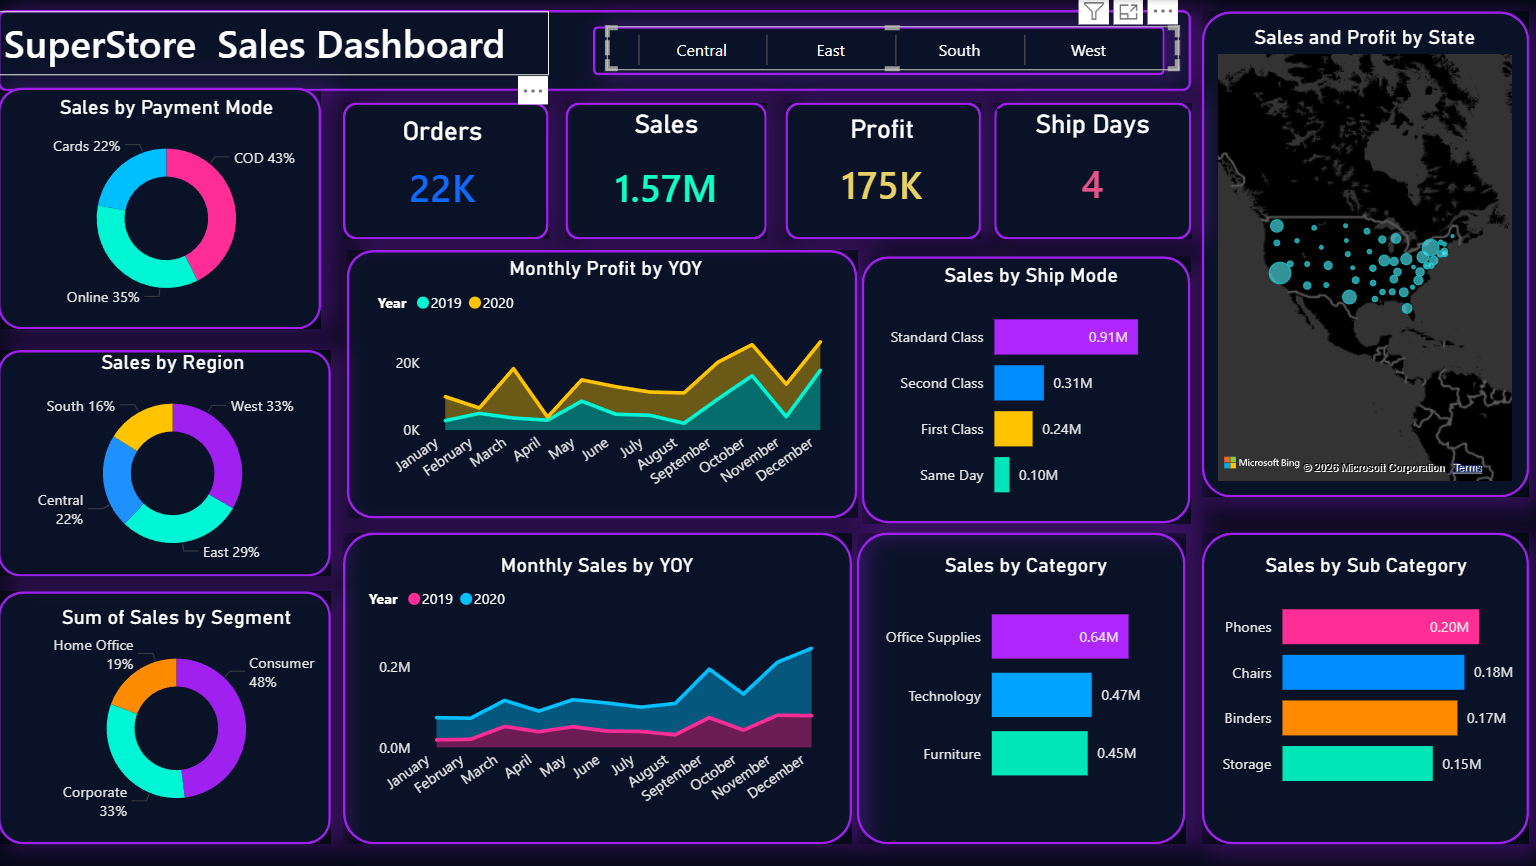

The page's visual inventory and layout, read from the dashboard file:
{"tool":"powerbi","page":{"name":"Page 1","canvas":[1280,720],"ordinal":0},"visuals":[{"type":"shape","box":[0,8.1,991.9,67.4],"z":0},{"type":"shape","box":[494.2,22.1,475.6,40.7],"z":1000},{"type":"shape","box":[714,443,273.3,259.3],"z":2000},{"type":"shape","box":[289.5,208.1,424.4,223.3],"z":3000},{"type":"shape","box":[718.6,212.8,273.3,222.1],"z":4000},{"type":"clusteredBarChart","title":"Sales by Category","fields":{"Category":["SuperStore_Sales_Dataset.Category"],"Y":["Sum(SuperStore_Sales_Dataset.Sales)"]},"box":[726.4,459.4,256.7,212],"z":5000},{"type":"shape","box":[1000.8,9.4,272.3,404.3],"z":6000},{"type":"shape","box":[1001.2,443,272.1,259.3],"z":7000},{"type":"shape","box":[287.2,443,423.3,259.3],"z":8000},{"type":"shape","box":[0,491.9,276.7,210.5],"z":9000},{"type":"shape","box":[0,290.7,276.7,188.4],"z":10000},{"type":"shape","box":[0,73.3,268.6,201.2],"z":11000},{"type":"shape","box":[472.1,84.9,167.4,114],"z":12000},{"type":"shape","box":[287.2,84.9,170.9,114],"z":13000},{"type":"shape","box":[654.7,84.9,162.8,114],"z":14000},{"type":"shape","box":[827.9,84.9,164,114],"z":15000},{"type":"clusteredBarChart","title":"Sales by Sub Category","fields":{"Category":["SuperStore_Sales_Dataset.Sub-Category"],"Y":["Sum(SuperStore_Sales_Dataset.Sales)"]},"box":[1009.3,459.3,257,211.6],"z":16000},{"type":"clusteredBarChart","title":"Sales by Ship Mode","fields":{"Y":["Sum(SuperStore_Sales_Dataset.Sales)"],"Category":["SuperStore_Sales_Dataset.Ship Mode"]},"box":[730.2,218.6,257,212.8],"z":17000},{"type":"stackedAreaChart","title":"Monthly Sales by YOY","fields":{"Category":["SuperStore_Sales_Dataset.Order Date.Variation.Date Hierarchy.Month"],"Y":["Sum(SuperStore_Sales_Dataset.Sales)"],"Series":["SuperStore_Sales_Dataset.Order Date.Variation.Date Hierarchy.Year"]},"box":[303.5,459.3,389.5,230.2],"z":18000},{"type":"stackedAreaChart","title":"Monthly Profit by YOY","fields":{"Category":["SuperStore_Sales_Dataset.Order Date.Variation.Date Hierarchy.Month"],"Series":["SuperStore_Sales_Dataset.Order Date.Variation.Date Hierarchy.Year"],"Y":["Sum(SuperStore_Sales_Dataset.Profit)"]},"box":[310.5,212.8,389.5,212.8],"z":19000},{"type":"map","title":"Sales and  Profit by State","fields":{"Size":["Sum(SuperStore_Sales_Dataset.Sales)"],"Category":["SuperStore_Sales_Dataset.State"]},"box":[1009.3,20.9,254.7,383.7],"z":20000},{"type":"donutChart","title":" Sales by Payment Mode","fields":{"Category":["SuperStore_Sales_Dataset.Payment Mode"],"Y":["Sum(SuperStore_Sales_Dataset.Sales)"]},"box":[20.2,79.5,240.9,186.3],"z":21000},{"type":"donutChart","title":"Sales by Region","fields":{"Y":["Sum(SuperStore_Sales_Dataset.Sales)"],"Category":["SuperStore_Sales_Dataset.Region"]},"box":[24.9,290.7,240.9,186.3],"z":22000},{"type":"donutChart","fields":{"Y":["Sum(SuperStore_Sales_Dataset.Sales)"],"Category":["SuperStore_Sales_Dataset.Segment"]},"box":[28.5,503.1,240.9,186.3],"z":23000},{"type":"textbox","box":[0,9.4,458.3,53],"z":24000},{"type":"slicer","fields":{"Values":["SuperStore_Sales_Dataset.Region"]},"box":[505.8,22.1,476.7,36],"z":25000},{"type":"cardVisual","title":"Sales","fields":{"Data":["Sum(SuperStore_Sales_Dataset.Sales)"]},"box":[475.6,90.7,159.3,102.3],"z":26000},{"type":"cardVisual","title":"Orders","fields":{"Data":["Sum(SuperStore_Sales_Dataset.Quantity)"]},"box":[289.5,96.5,159.3,90.7],"z":27000},{"type":"cardVisual","title":"Profit","fields":{"Data":["Sum(SuperStore_Sales_Dataset.Profit)"]},"box":[659.3,94.2,152.3,90.7],"z":28000},{"type":"cardVisual","title":"Ship Days","fields":{"Data":["Avg(SuperStore_Sales_Dataset.AvgDelivery)"]},"box":[830.2,90.7,159.3,96.5],"z":29000}]}

Visuals, with their boxes in screenshot pixels (x1, y1, x2, y2), scaled from the page's 1280x720 canvas onto the 1536x866 screenshot:
shape: 0, 10, 1190, 91
shape: 593, 27, 1164, 76
shape: 857, 533, 1185, 845
shape: 347, 250, 857, 519
shape: 862, 256, 1190, 523
"Sales by Category" clusteredBarChart: 872, 553, 1180, 808
shape: 1201, 11, 1528, 498
shape: 1201, 533, 1528, 845
shape: 345, 533, 853, 845
shape: 0, 592, 332, 845
shape: 0, 350, 332, 576
shape: 0, 88, 322, 330
shape: 567, 102, 767, 239
shape: 345, 102, 550, 239
shape: 786, 102, 981, 239
shape: 993, 102, 1190, 239
"Sales by Sub Category" clusteredBarChart: 1211, 552, 1520, 807
"Sales by Ship Mode" clusteredBarChart: 876, 263, 1185, 519
"Monthly Sales by YOY" stackedAreaChart: 364, 552, 832, 829
"Monthly Profit by YOY" stackedAreaChart: 373, 256, 840, 512
"Sales and  Profit by State" map: 1211, 25, 1517, 487
" Sales by Payment Mode" donutChart: 24, 96, 313, 320
"Sales by Region" donutChart: 30, 350, 319, 574
donutChart - Sum(SuperStore_Sales_Dataset.Sales) x SuperStore_Sales_Dataset.Segment: 34, 605, 323, 829
textbox: 0, 11, 550, 75
slicer - SuperStore_Sales_Dataset.Region: 607, 27, 1179, 70
"Sales" cardVisual: 571, 109, 762, 232
"Orders" cardVisual: 347, 116, 539, 225
"Profit" cardVisual: 791, 113, 974, 222
"Ship Days" cardVisual: 996, 109, 1187, 225
